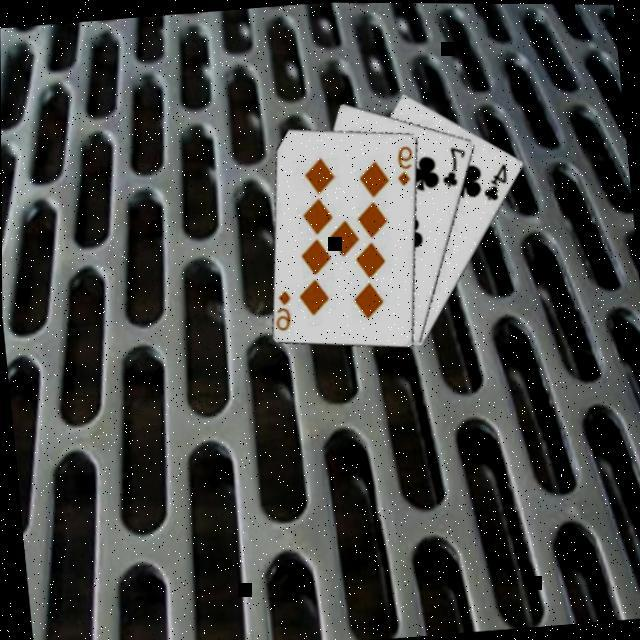4C: (478, 156, 513, 201)
7C: (437, 138, 472, 187)
9D: (391, 138, 417, 186), (271, 283, 297, 331)
